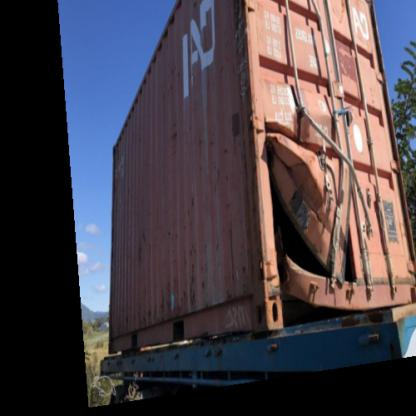Damage: (229, 9, 405, 310), (130, 269, 234, 336)
